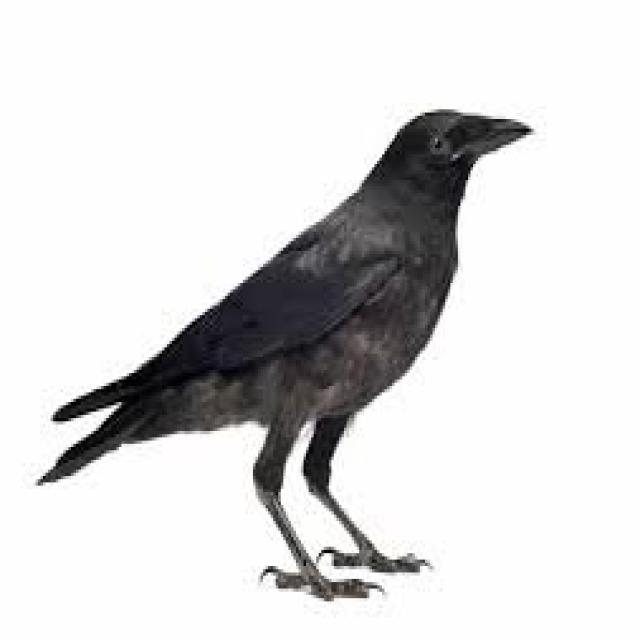crow: (316, 59, 486, 435)
